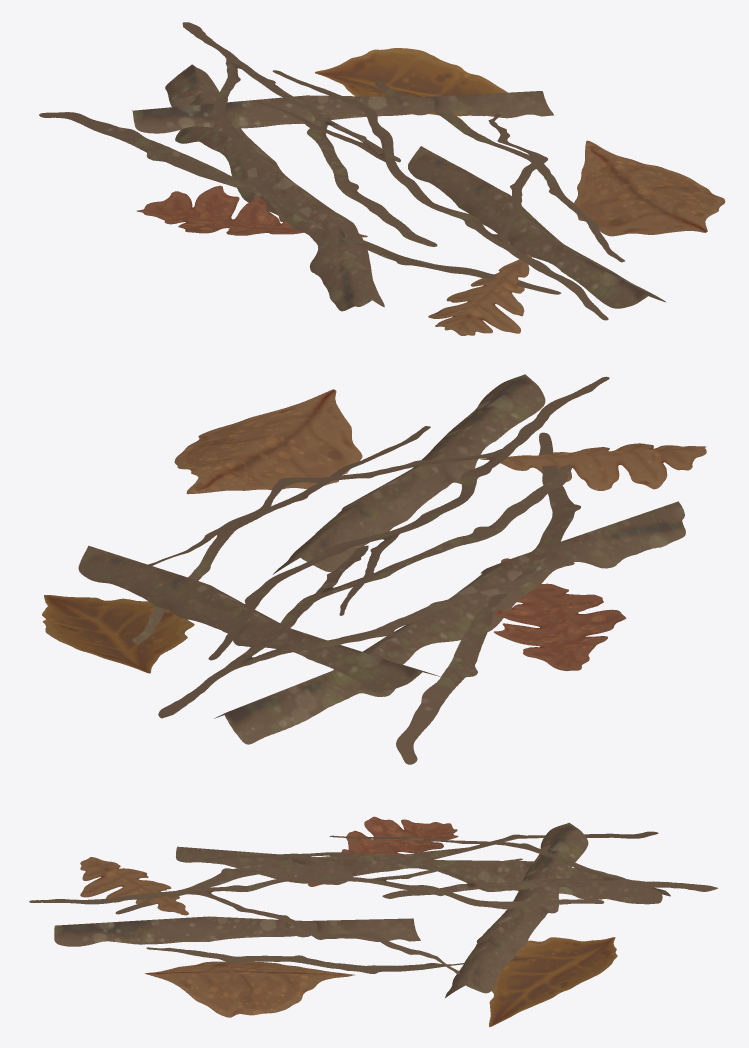
File: MSH_fwOF_WoodDebris_02.fbx
3 views of the same model, one above another, from view 1: azimuth 30°, elevation 25°; view 2: azimuth 150°, elevation 25°; view 3: azimuth 270°, elevation 25° (orthographic). The views are drawn at different scales.
Visible parts, largest first — view 1: MSH_fwOF_WoodDebris_02; view 2: MSH_fwOF_WoodDebris_02; view 3: MSH_fwOF_WoodDebris_02.
Part boxes in pixels (x1,y1,x2,y2): MSH_fwOF_WoodDebris_02: [39, 22, 725, 335]; MSH_fwOF_WoodDebris_02: [42, 374, 706, 764]; MSH_fwOF_WoodDebris_02: [29, 816, 717, 1027].
Size of the model in its own units: 0.4287 by 0.0589 by 0.6484.
